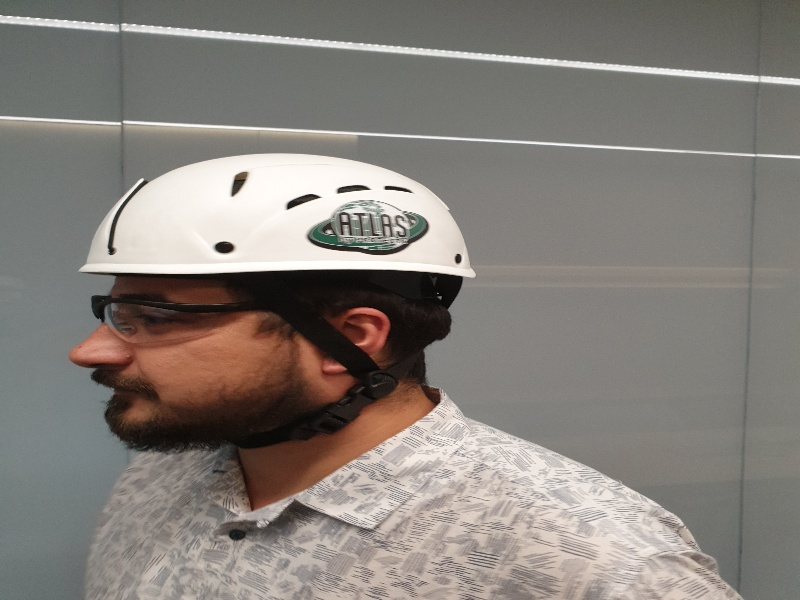Baret: (83, 153, 475, 280)
Gozluk: (89, 293, 320, 340)
